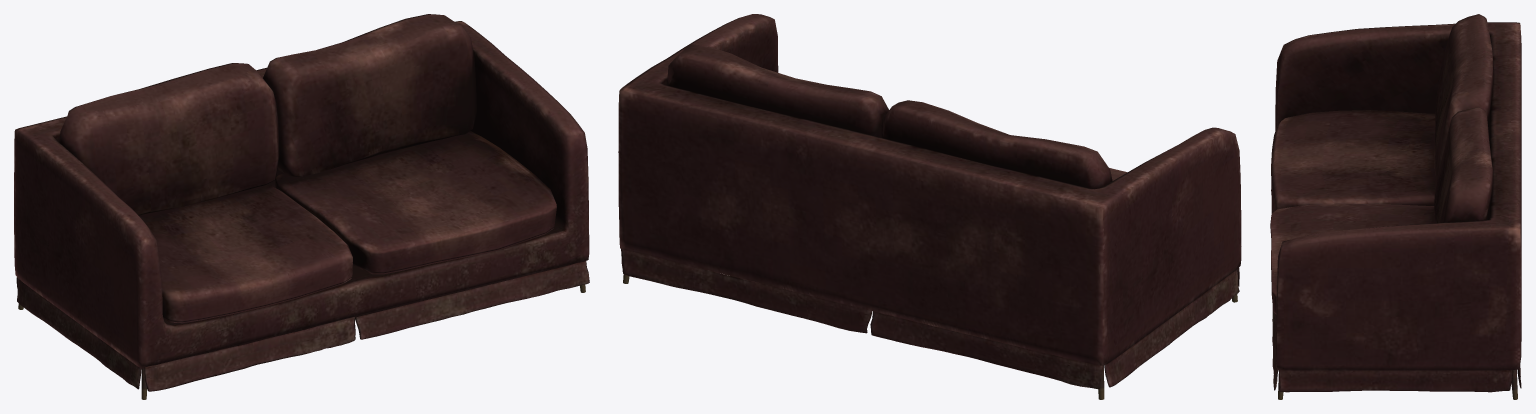
File: sofa_old.glb
3 renders of one model, left to right at view 1: azimuth 30°, elevation 25°; view 2: azimuth 150°, elevation 25°; view 3: azimuth 270°, elevation 25°, orthographic. The views are drawn at different scales.
Visible parts, largest first — view 1: couch02_lo; view 2: couch02_lo; view 3: couch02_lo.
Part boxes in pixels (x1=…): couch02_lo: x1=14, y1=14, x2=589, y2=399; couch02_lo: x1=618, y1=14, x2=1241, y2=399; couch02_lo: x1=1270, y1=14, x2=1521, y2=399.
Size of the model in its own units: 2 by 0.8921 by 1.01.
Materials: 1 (1 with a texture image).
